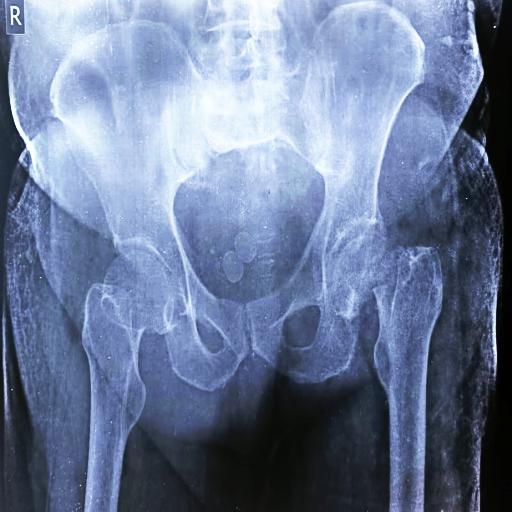neck: (372, 245, 443, 471), (333, 235, 386, 322)
normal: (82, 250, 174, 487)
